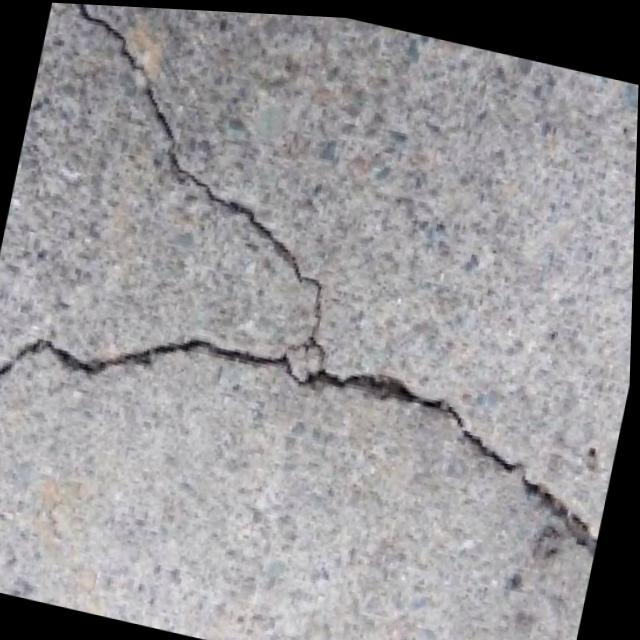Crack: (0, 241, 633, 579), (0, 0, 415, 379)
